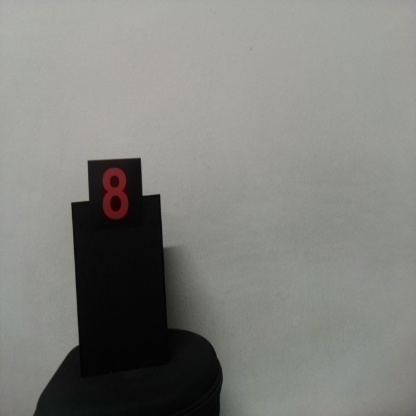id_8: (87, 161, 142, 237)
